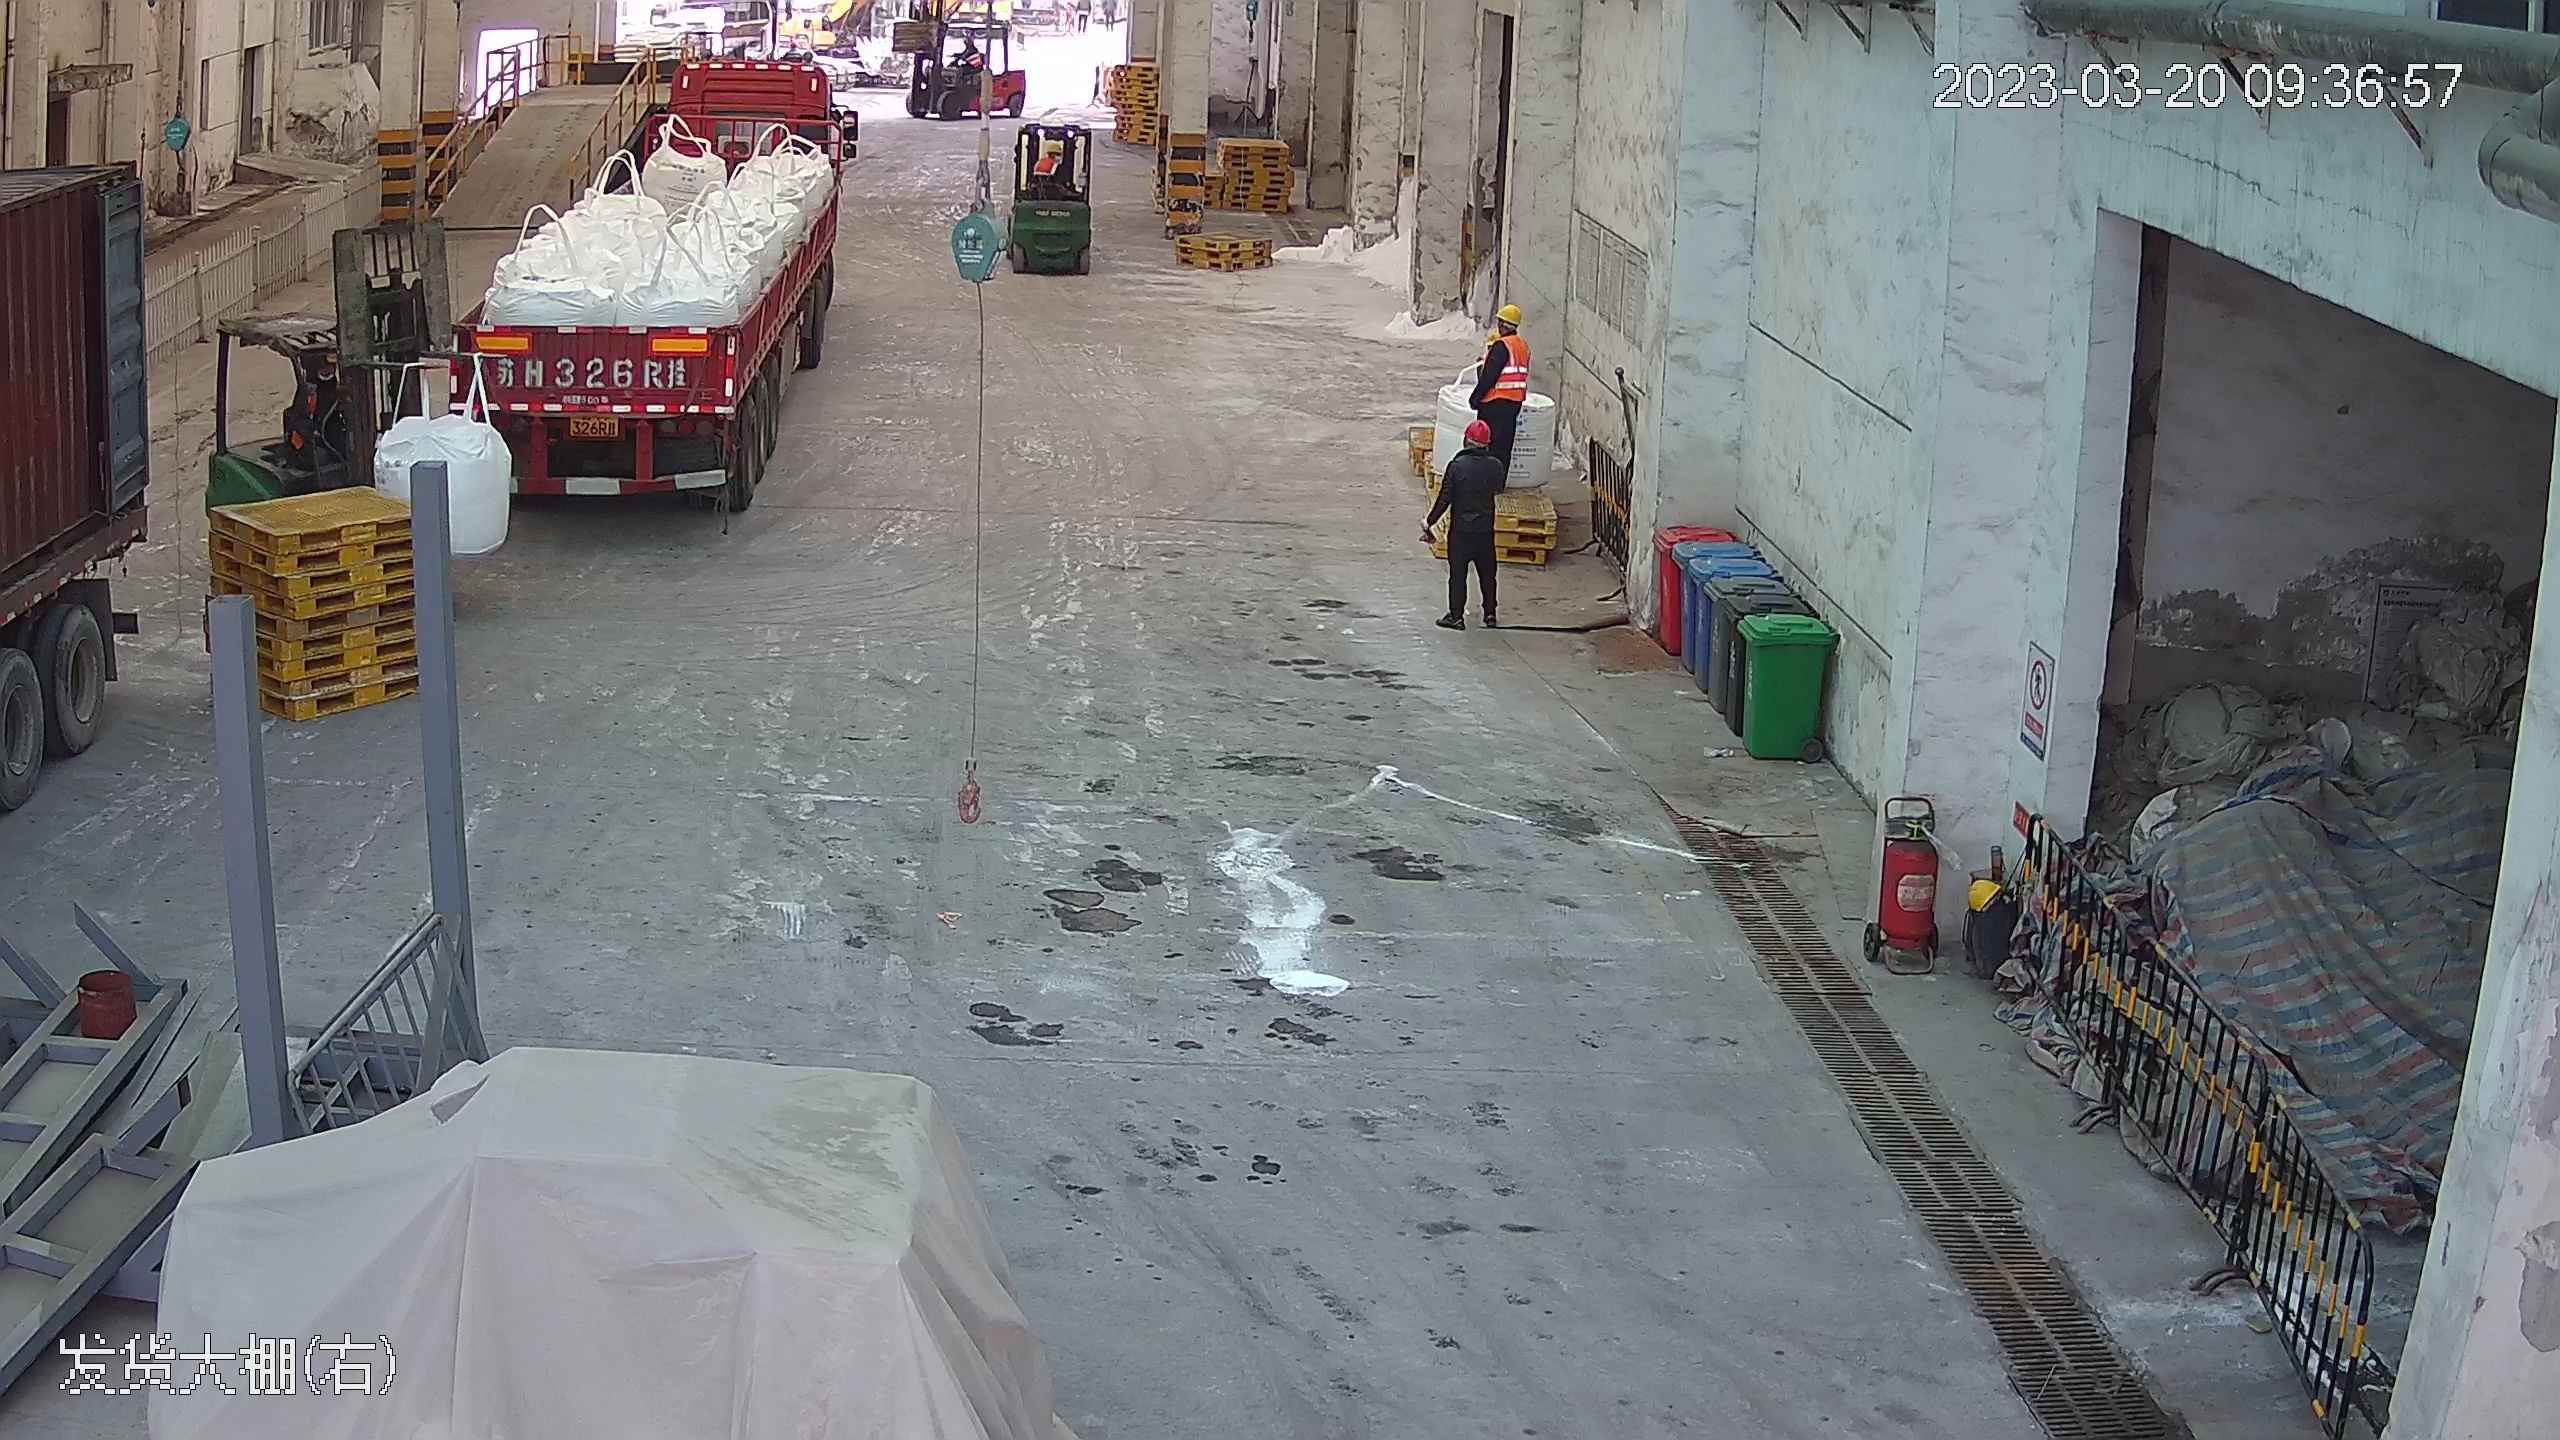head: (1443, 413, 1504, 483), (1480, 300, 1532, 363), (1035, 136, 1066, 175)
helmet: (1460, 420, 1496, 448), (1493, 299, 1525, 325), (1044, 142, 1062, 156)
people: (1426, 411, 1507, 634), (1462, 302, 1533, 468)
truck: (452, 21, 855, 522), (1, 155, 144, 922)
